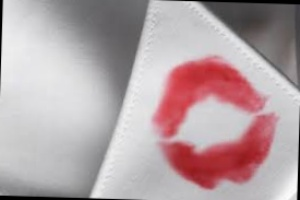lipstick: (150, 61, 287, 187), (162, 146, 271, 188), (208, 70, 266, 114), (172, 62, 231, 102), (243, 115, 284, 155), (152, 96, 190, 128)
